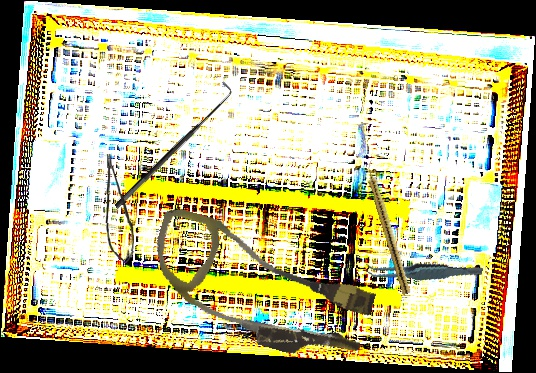Cannula: (137, 205, 384, 372)
Handpiece: (362, 159, 414, 296)
Hook Surgical: (105, 80, 239, 211)
Micro Scissor: (103, 153, 136, 264)
Tissue Forceps: (363, 241, 484, 301)
